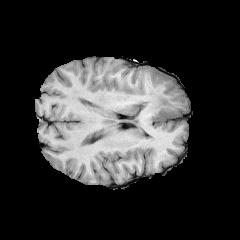glioma: (124, 86, 188, 130)
